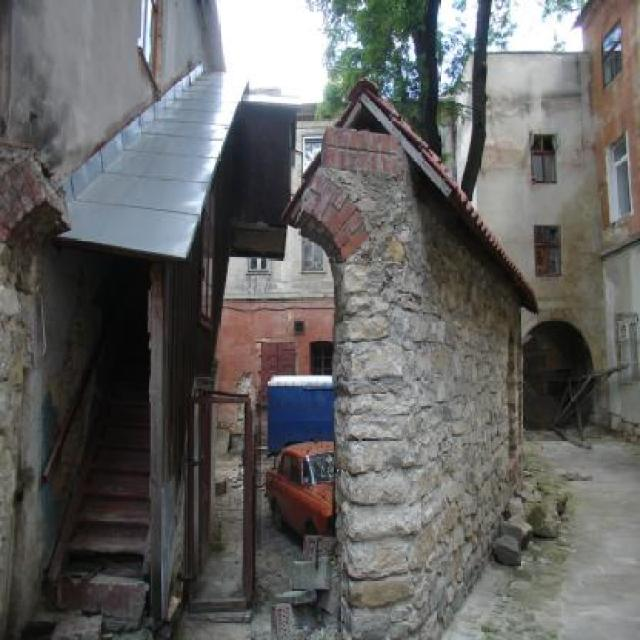stair: (43, 238, 151, 638)
